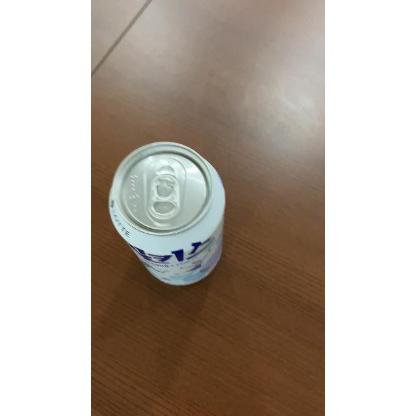Can: (108, 141, 226, 287)
